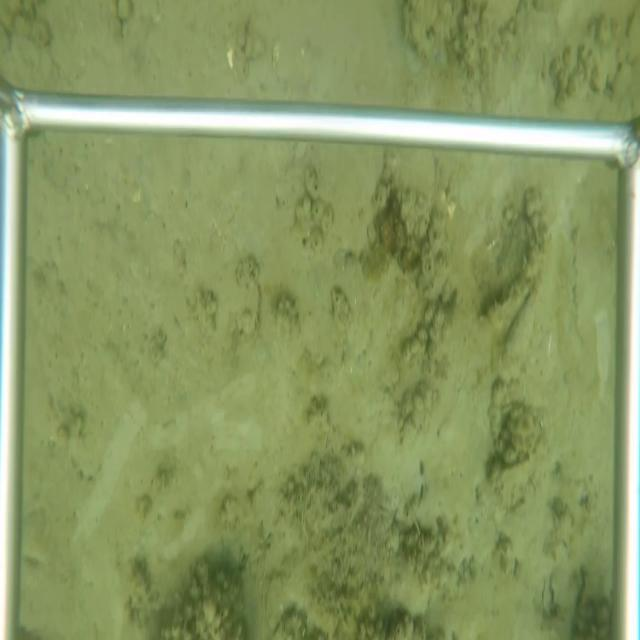Oyster-Closed: (383, 147, 440, 242), (495, 284, 541, 387)
